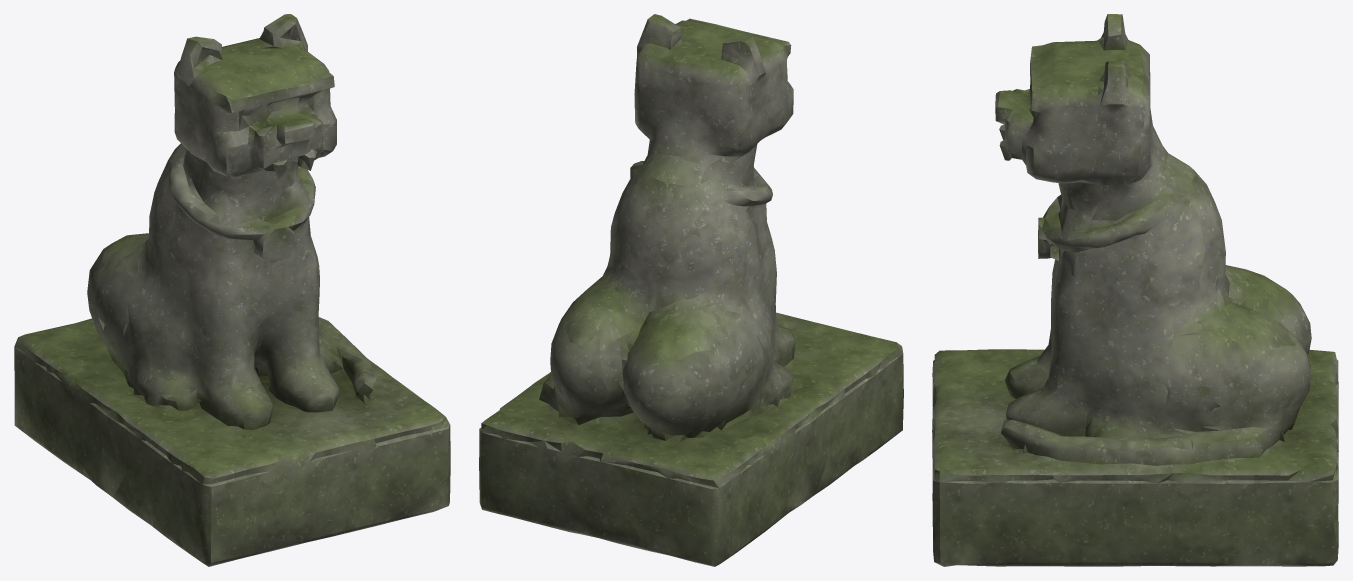
The model's file is stone-feline-guardian-lod1.glb.
3 renders of one model, left to right at view 1: azimuth 30°, elevation 25°; view 2: azimuth 150°, elevation 25°; view 3: azimuth 270°, elevation 25°, orthographic. The views are drawn at different scales.
Visible parts, largest first — view 1: feline_guardian_carved; view 2: feline_guardian_carved; view 3: feline_guardian_carved.
Part boxes in pixels (<box>): feline_guardian_carved: <box>14,14,450,566</box>; feline_guardian_carved: <box>479,14,903,566</box>; feline_guardian_carved: <box>932,14,1338,566</box>.
Size of the model in its own units: 1.45 by 2.5 by 1.97.
1 material, 1 textured.
